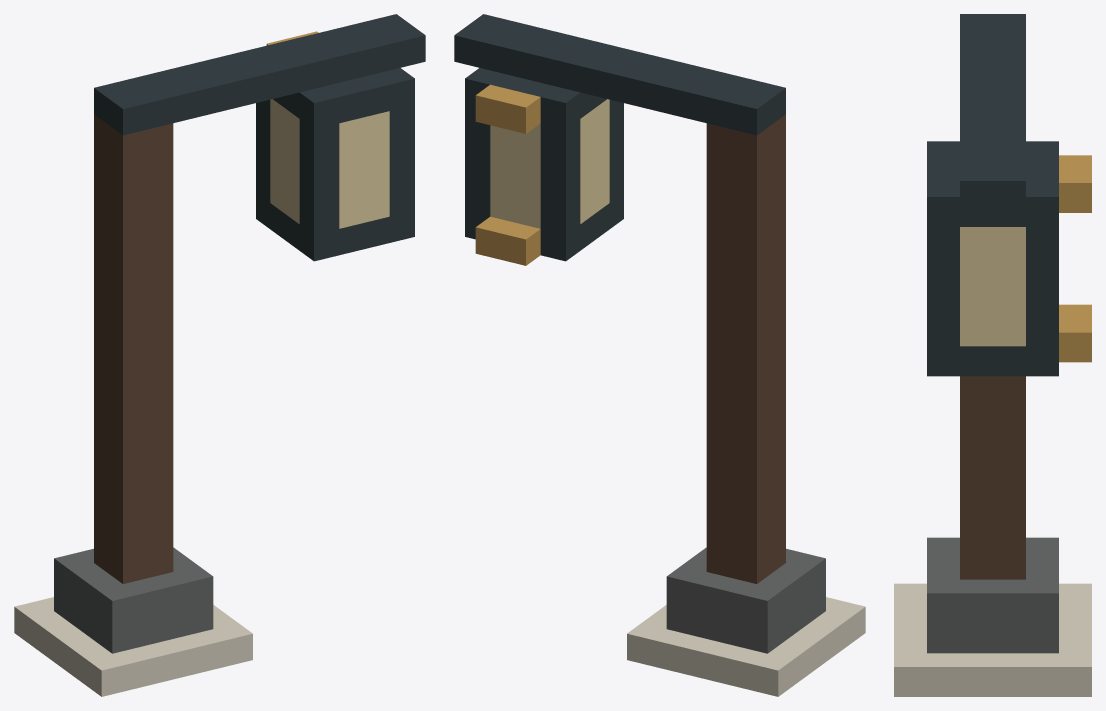
Rendered from visual-far.glb.
3 views of the same model, side by side, from view 1: azimuth 30°, elevation 25°; view 2: azimuth 150°, elevation 25°; view 3: azimuth 270°, elevation 25° (orthographic). The views are drawn at different scales.
Visible parts, largest first — view 1: 独立景观灯杆与石灯母版; view 2: 独立景观灯杆与石灯母版; view 3: 独立景观灯杆与石灯母版.
Part boxes in pixels (<box>): 独立景观灯杆与石灯母版: <box>14,14,425,696</box>; 独立景观灯杆与石灯母版: <box>454,14,865,696</box>; 独立景观灯杆与石灯母版: <box>894,14,1091,696</box>.
Bounding box in the file's own units: 2.8 × 4.2 × 1.2.
Materials: 6 (6 with a texture image).
